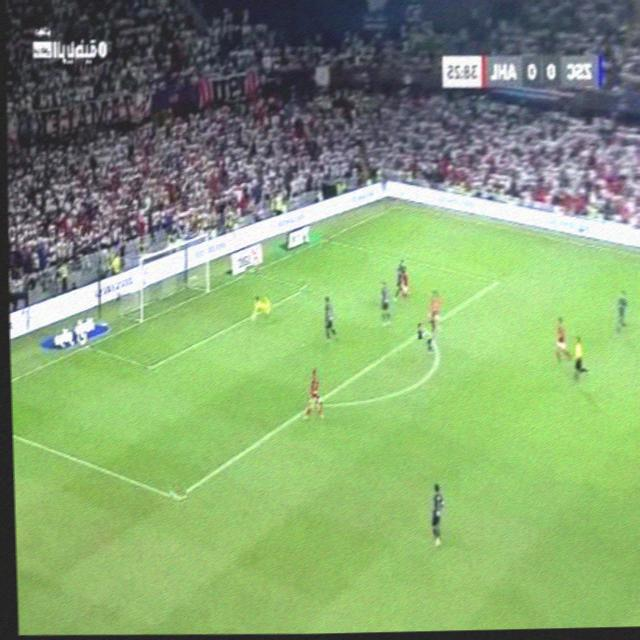bigarea_bottom_inner: (169, 484, 186, 508)
bigarea_top_inner: (490, 272, 504, 290)
bigarea_top_outter: (320, 230, 332, 246)
bottom_arc_area_intersection: (308, 396, 322, 411)
corner: (389, 198, 407, 211)
smallarea_bottom_inner: (143, 354, 160, 375)
smallarea_bottom_outter: (78, 336, 94, 351)
smallarea_top_inner: (299, 278, 312, 293)
smallarea_top_outter: (244, 264, 257, 279)
top_arc_area_intersection: (417, 322, 431, 338)
